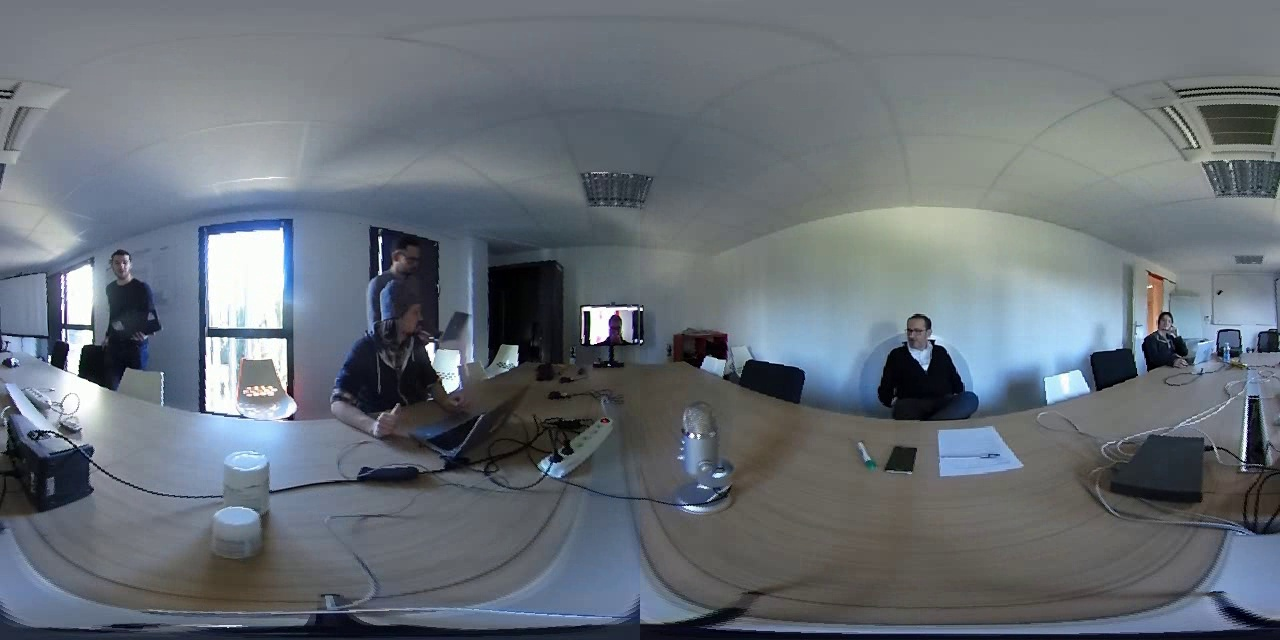person: (346, 280, 450, 429), (873, 300, 980, 422), (98, 231, 162, 365), (1138, 300, 1194, 371), (367, 232, 438, 282), (586, 304, 646, 338)
